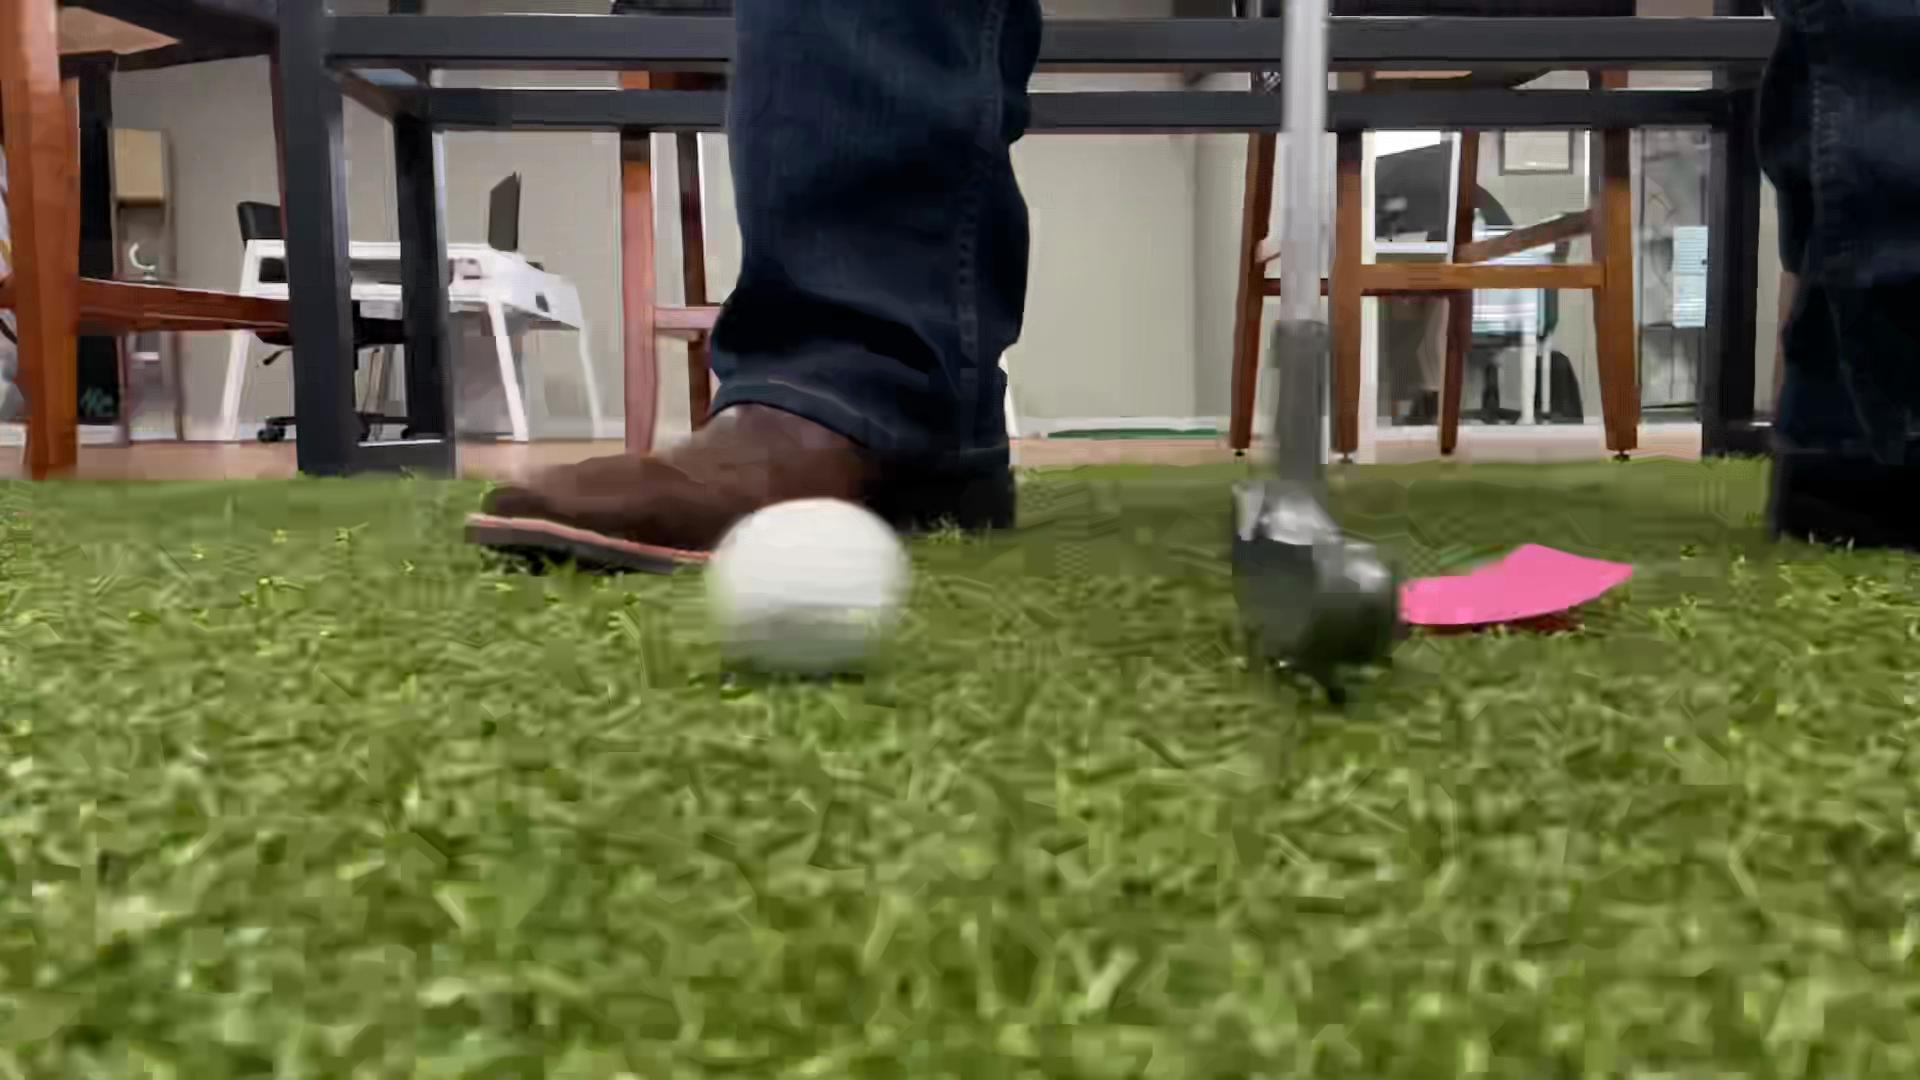golfball: (705, 500, 911, 678)
